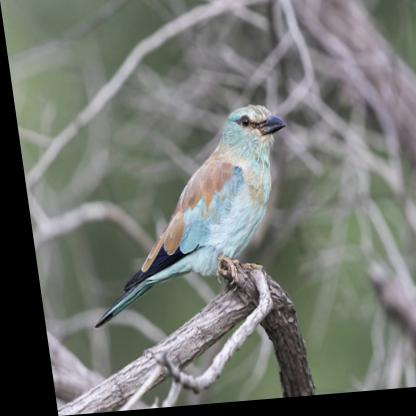Burung: (62, 108, 302, 334)
